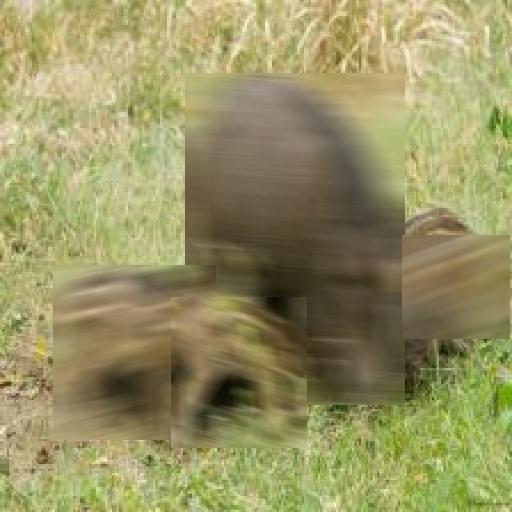Pig: (185, 73, 405, 405), (53, 265, 216, 440), (172, 297, 308, 448), (402, 236, 510, 340)
